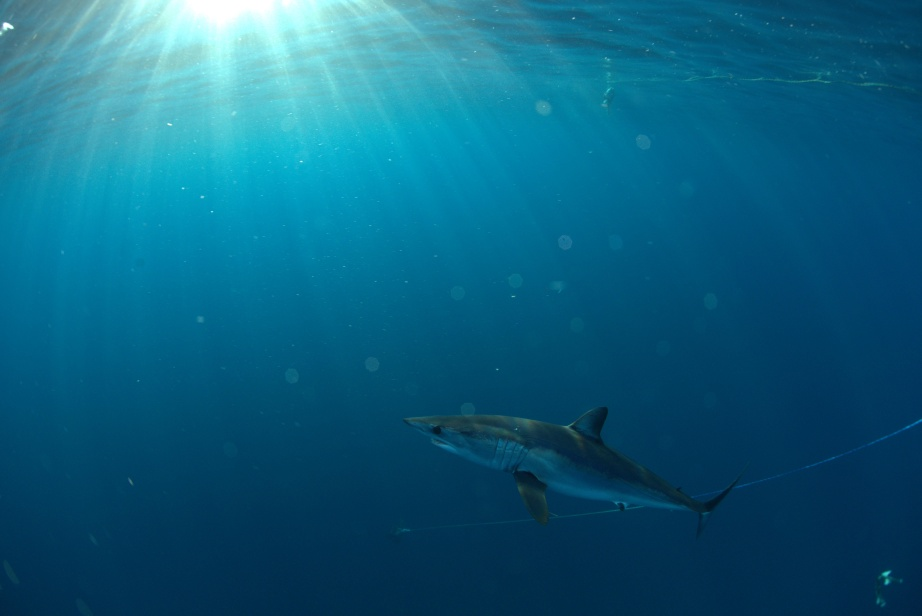Mako: (372, 398, 763, 554)
